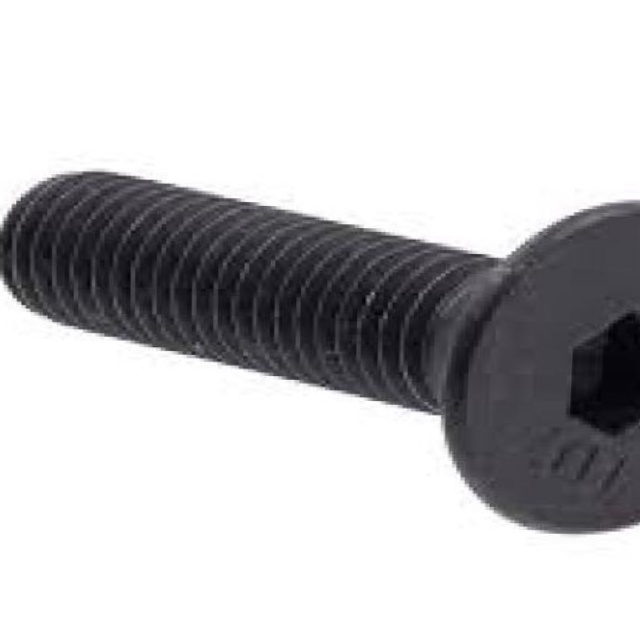torx: (438, 193, 640, 537)
